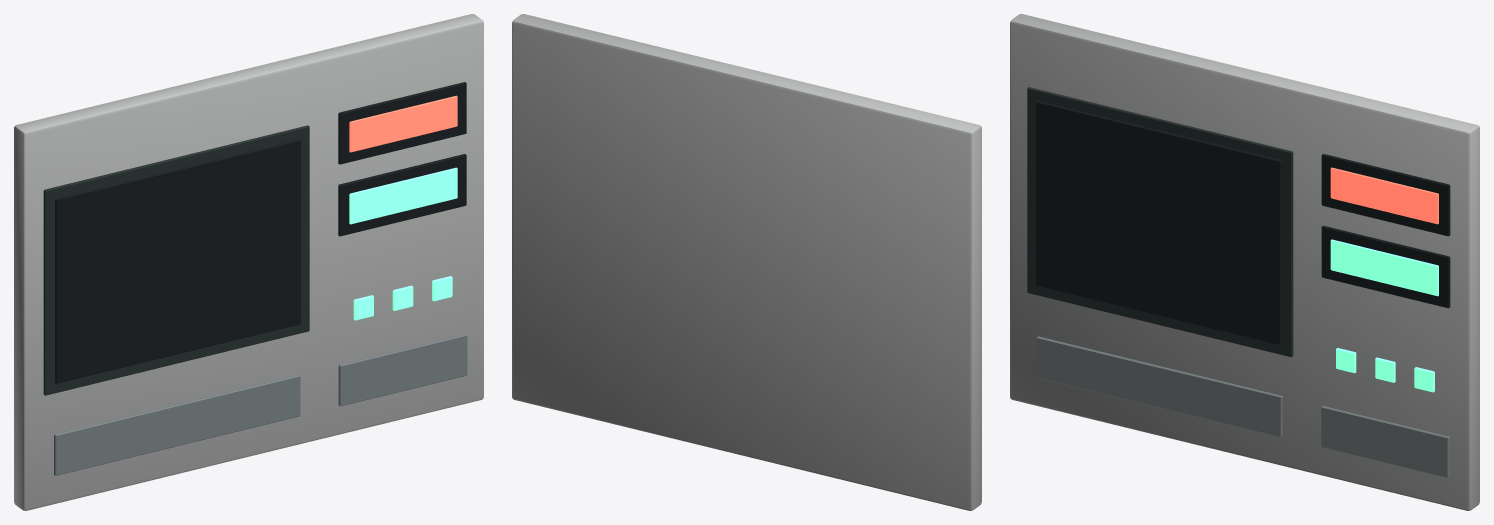
File: sc-or-control-panel.glb
3 renders of one model, left to right at view 1: azimuth 30°, elevation 25°; view 2: azimuth 150°, elevation 25°; view 3: azimuth 330°, elevation 25°, orthographic.
Visible parts, largest first — view 1: sc-or-control-panel; view 2: sc-or-control-panel; view 3: sc-or-control-panel.
Part boxes in pixels (bbox=[...]): sc-or-control-panel: bbox=[14, 14, 483, 510]; sc-or-control-panel: bbox=[512, 14, 981, 510]; sc-or-control-panel: bbox=[1010, 14, 1479, 510].
Size of the model in its own units: 0.94 by 0.74 by 0.049.
